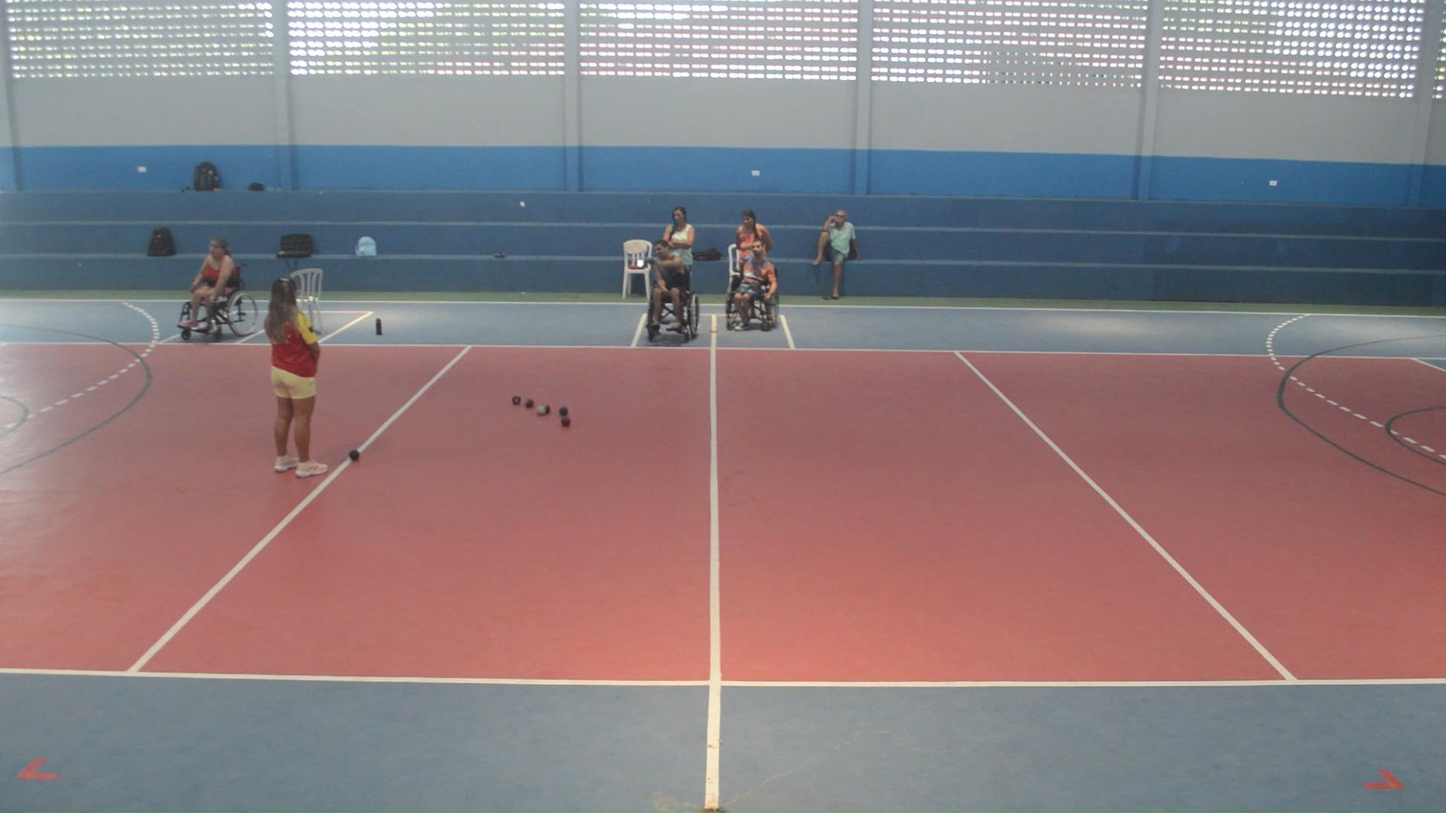blue_ball: (347, 449, 361, 462), (558, 406, 570, 417)
red_ball: (559, 416, 572, 428), (510, 395, 522, 407), (523, 397, 535, 409), (540, 403, 551, 415)
white_ball: (535, 405, 547, 417)
